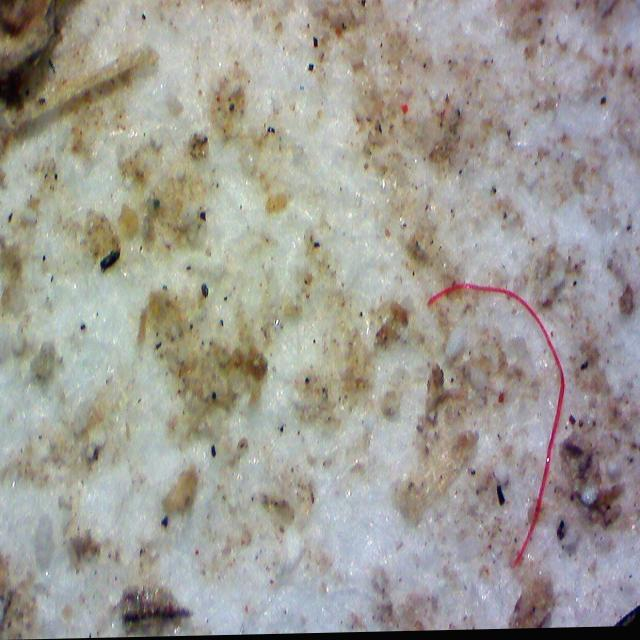microplastic: (425, 282, 567, 574)
